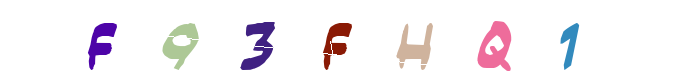1: (501, 0, 581, 80)
3: (257, 0, 337, 80)
9: (219, 0, 299, 80)
F: (60, 0, 140, 80), (296, 0, 376, 80)
H: (303, 0, 383, 80)
Q: (453, 0, 533, 80)
